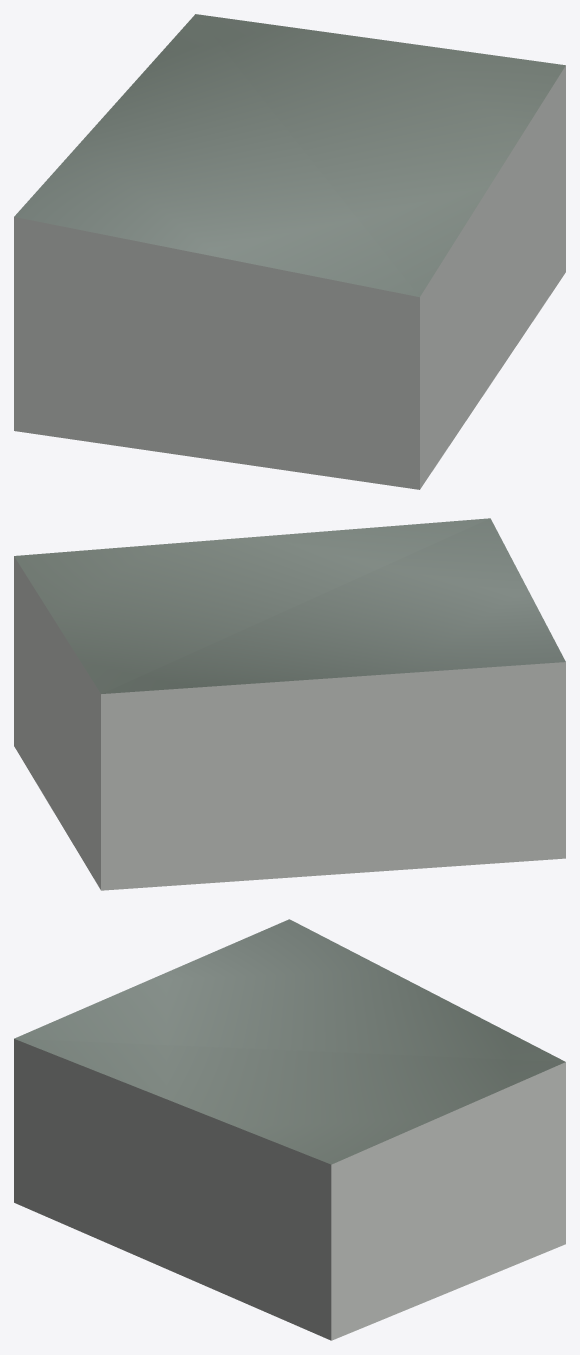
Rendered from LFSB_-3_4.glb.
3 views of the same model, one above another, from view 1: azimuth 30°, elevation 25°; view 2: azimuth 150°, elevation 25°; view 3: azimuth 270°, elevation 25° (orthographic). The views are drawn at different scales.
Parts seen in each view (by area): view 1: building_BATIMENT0000000048071484; view 2: building_BATIMENT0000000048071484; view 3: building_BATIMENT0000000048071484.
Part boxes in pixels (x1,y1,x2,y2): building_BATIMENT0000000048071484: (14, 14, 565, 489); building_BATIMENT0000000048071484: (14, 518, 565, 890); building_BATIMENT0000000048071484: (14, 919, 565, 1340).
Bounding box in the file's own units: 8.46 × 3 × 8.24.
Materials: 2 (1 with a texture image).
